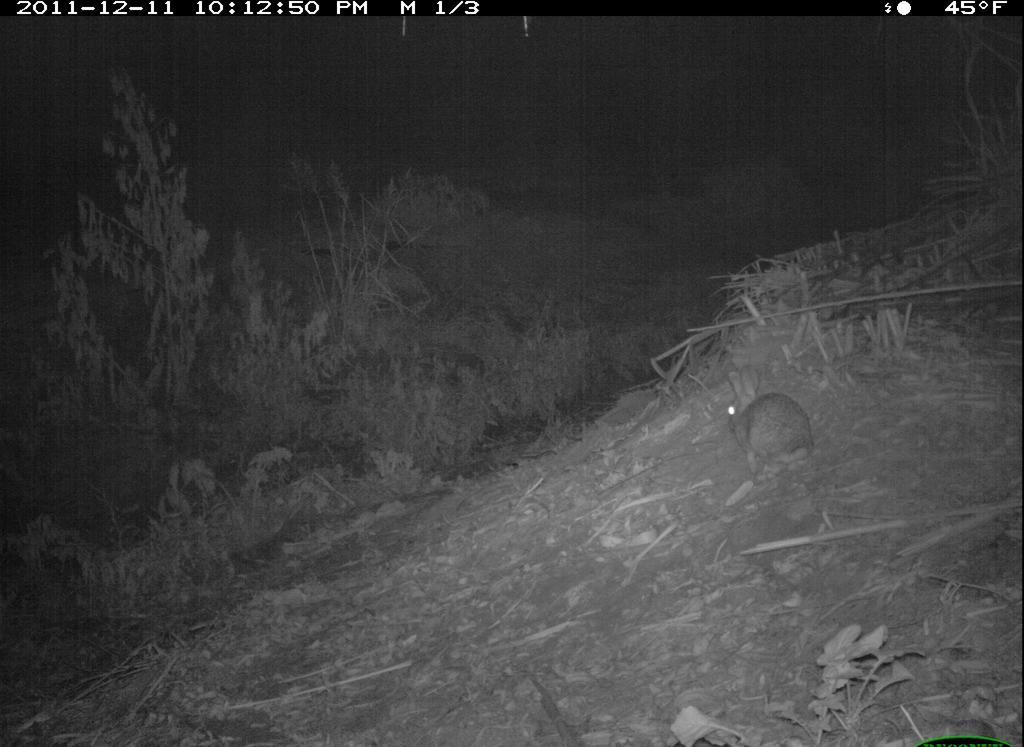rabbit: (727, 364, 817, 481)
